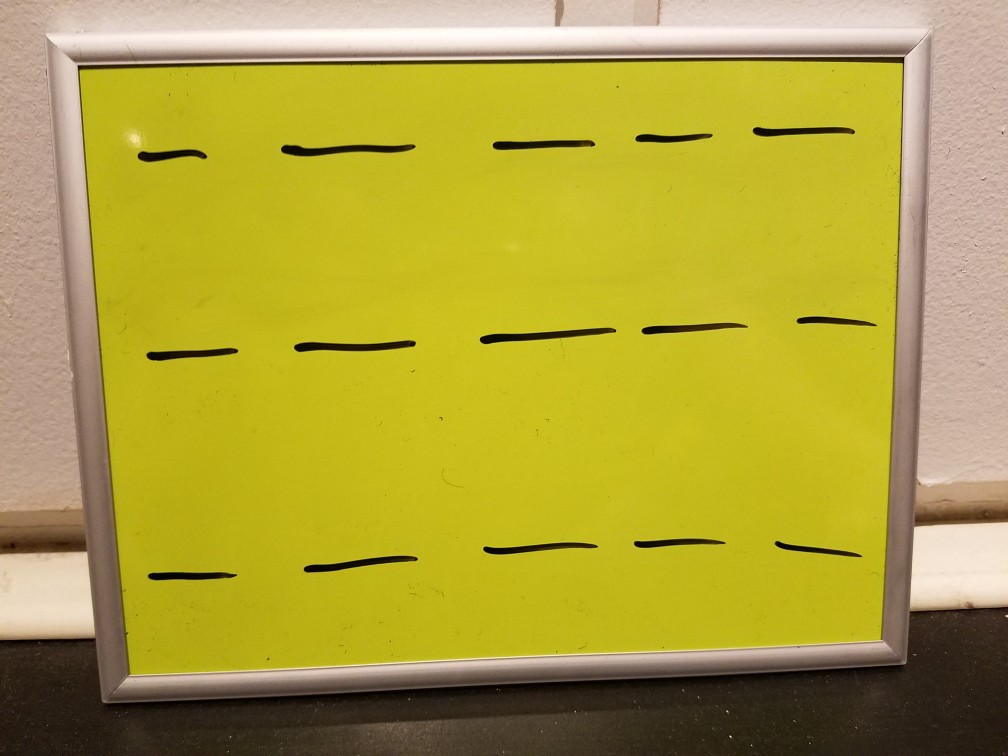-: (274, 528, 430, 598), (257, 129, 429, 180), (459, 516, 600, 577), (126, 545, 260, 607), (464, 311, 620, 363), (630, 304, 756, 366), (138, 313, 251, 382), (487, 118, 607, 180), (777, 293, 891, 353), (623, 518, 739, 575), (748, 100, 859, 159), (765, 522, 879, 579), (293, 327, 422, 377), (123, 128, 223, 183), (622, 115, 721, 166)
